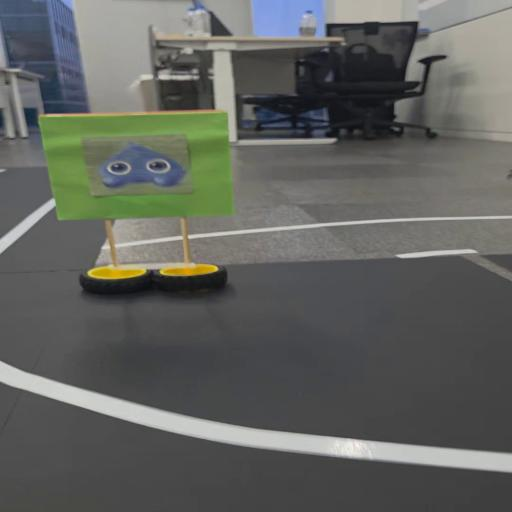Sign_B: (33, 102, 254, 302)
